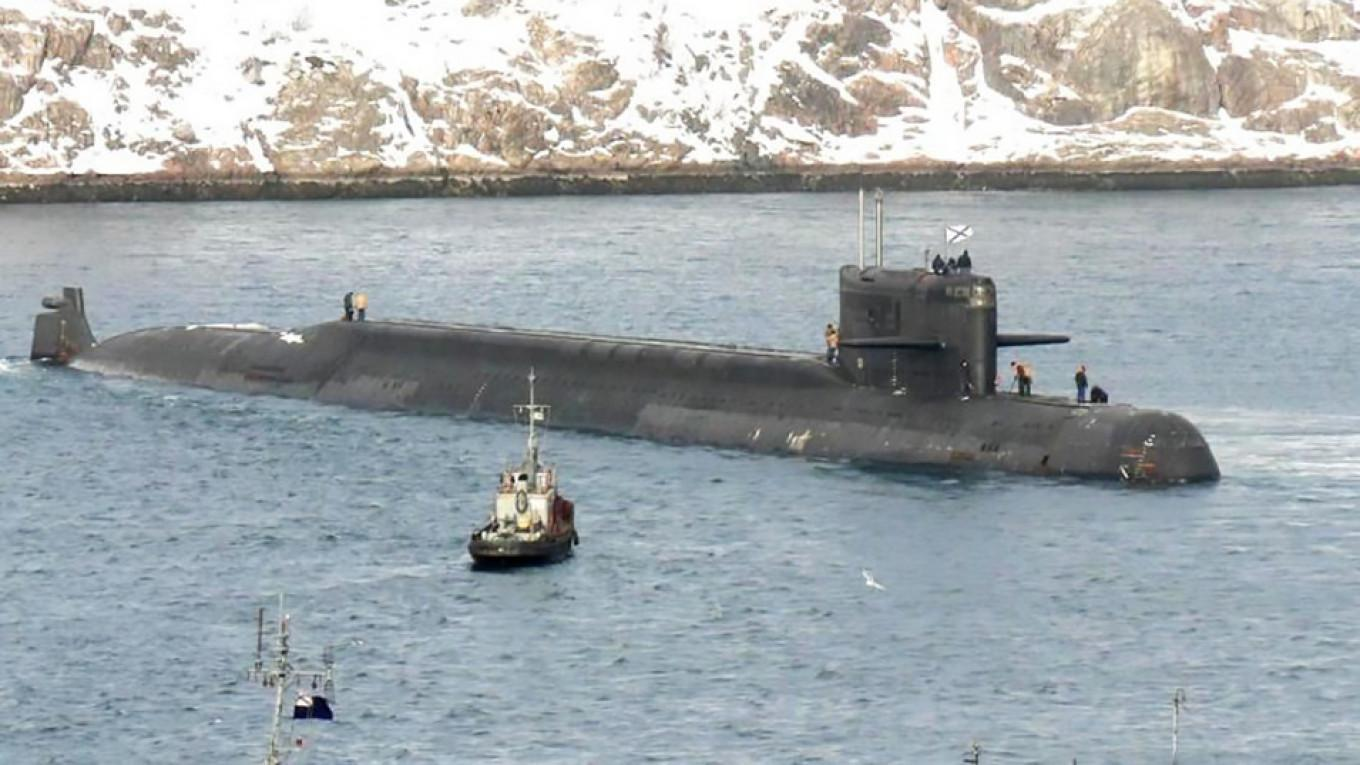Submarine: (4, 128, 1306, 504)
